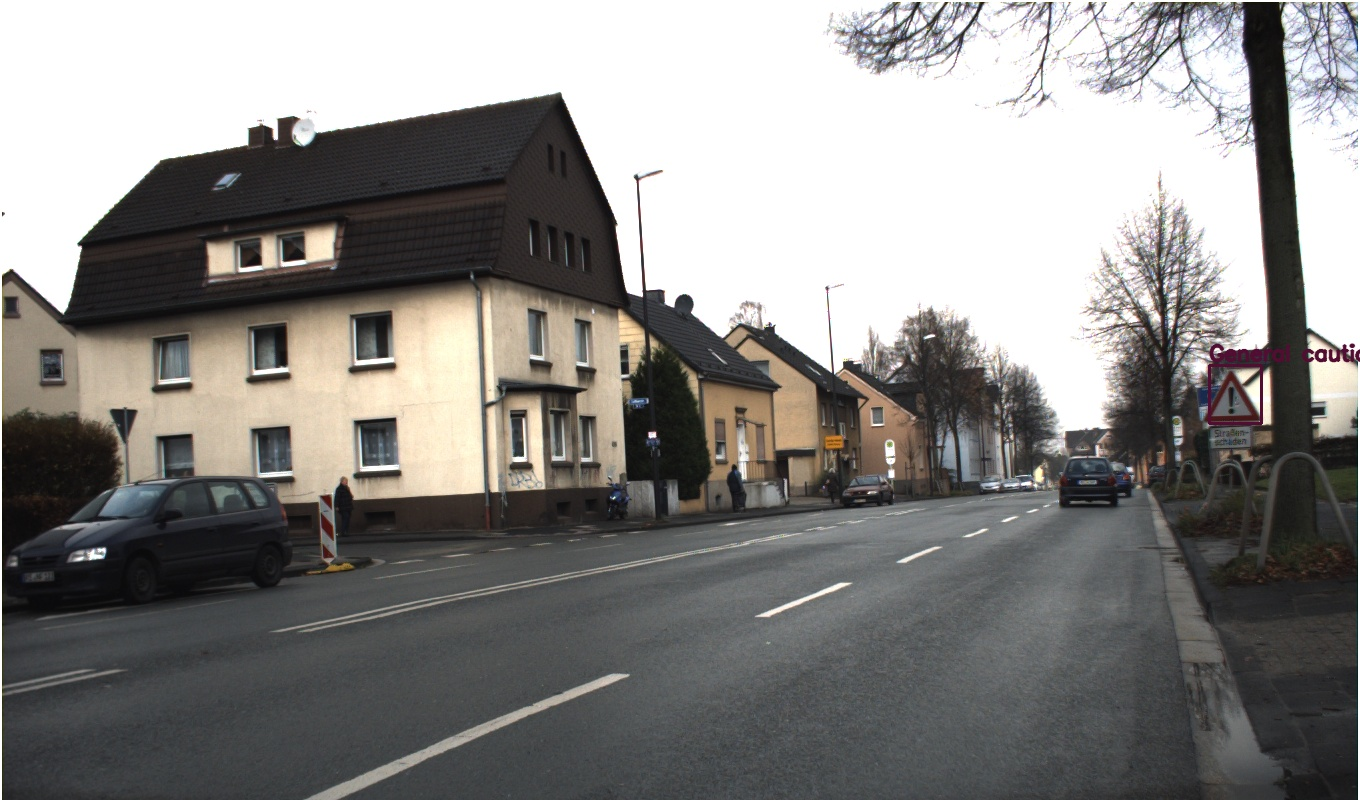Stop: (290, 389, 323, 422), (822, 361, 854, 393)
